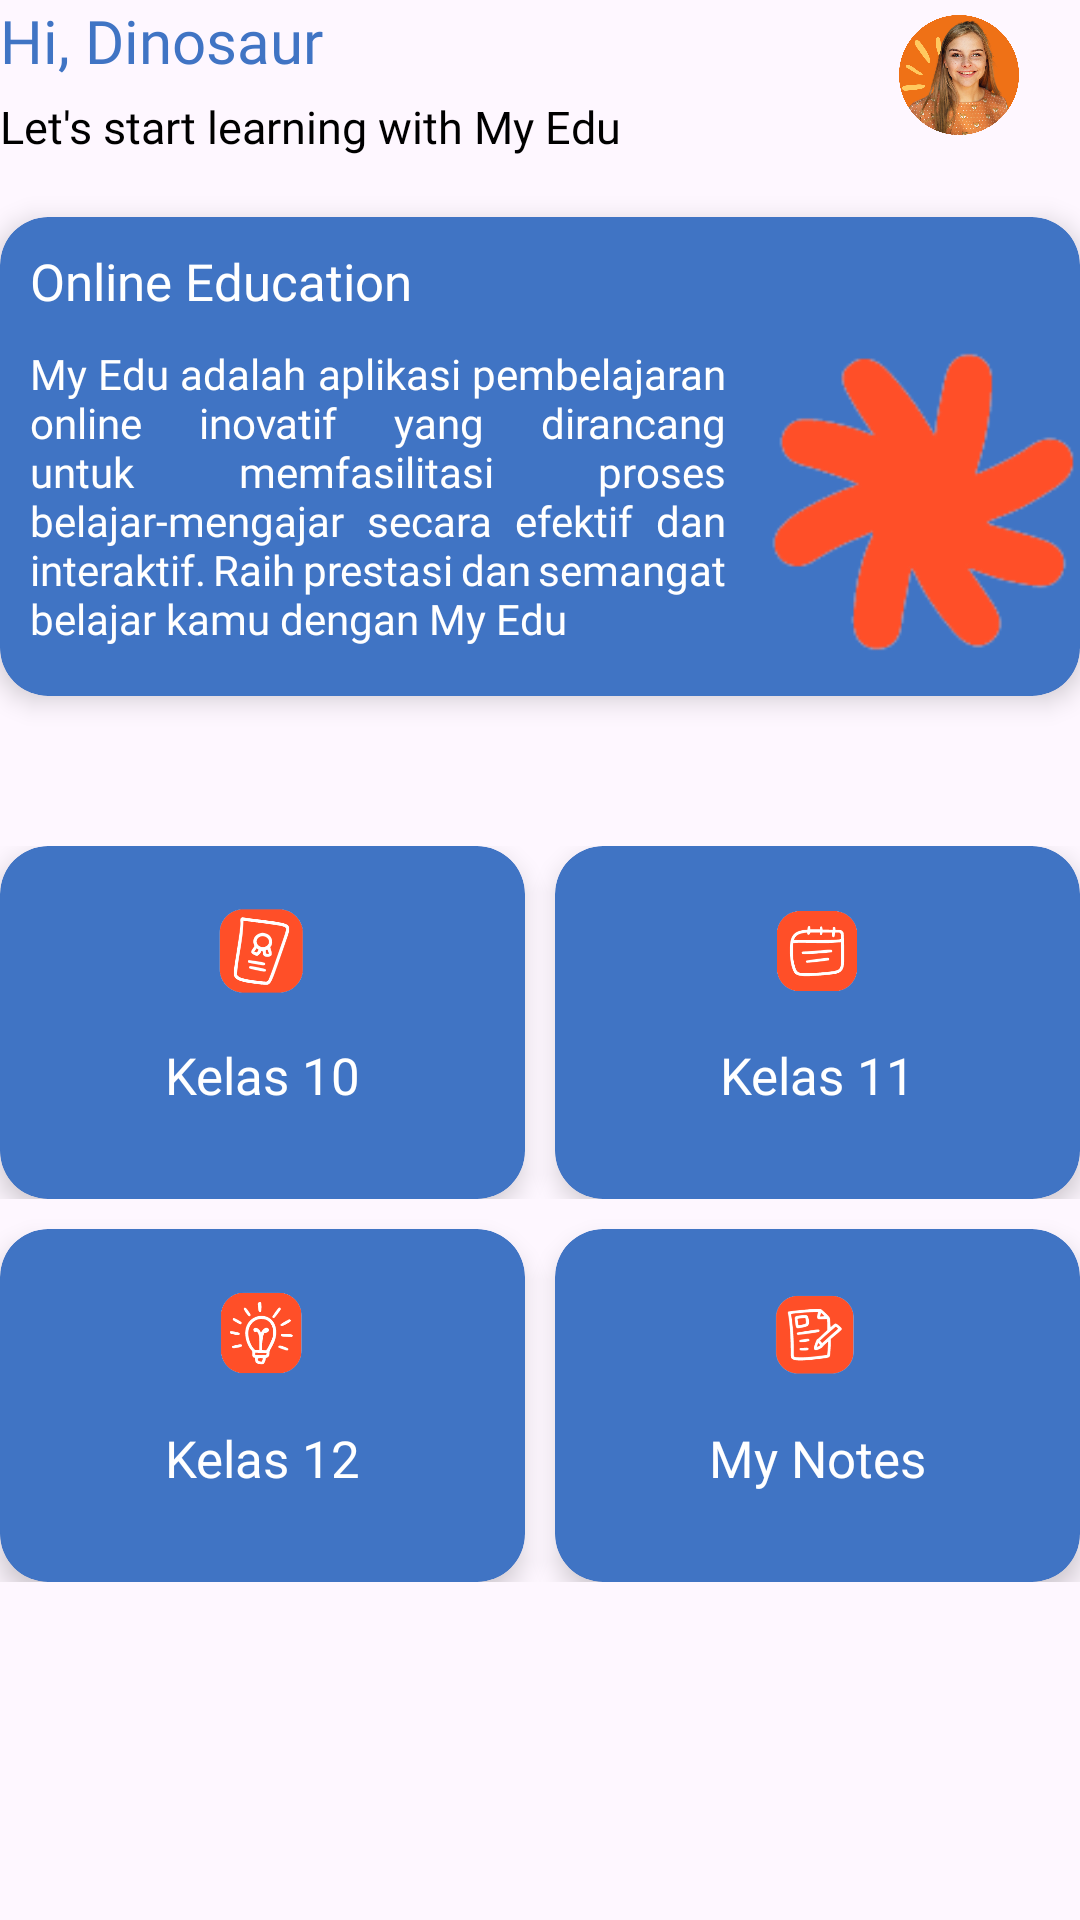

Icons on this 1080px x 1920px Android screen, each with the point to tap as [x,y]:
profile: [959,75]
